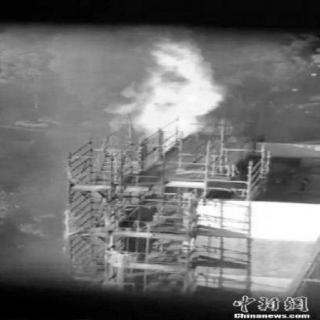Fire: (94, 24, 236, 154)
